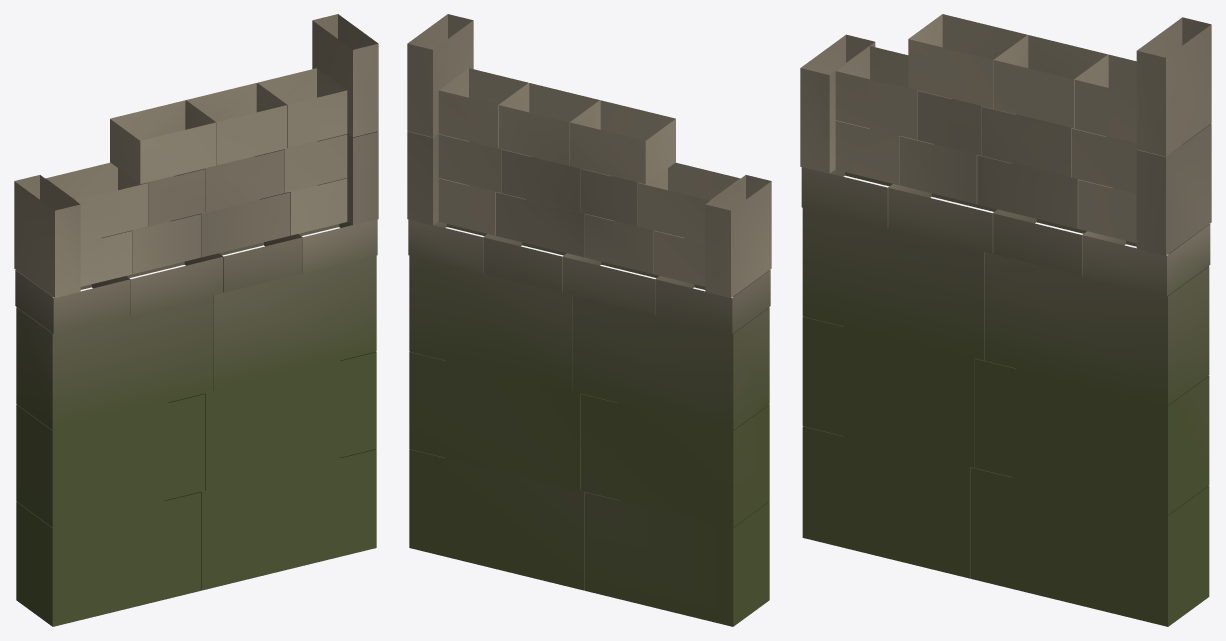
Rendered from sanctuary_wall_stump_mid.glb.
3 views of the same model, side by side, from view 1: azimuth 30°, elevation 25°; view 2: azimuth 150°, elevation 25°; view 3: azimuth 330°, elevation 25° (orthographic). The views are drawn at different scales.
Parts seen in each view (by area): view 1: sanctuary_wall_stump_mid; view 2: sanctuary_wall_stump_mid; view 3: sanctuary_wall_stump_mid.
Boxes of the visible parts, x1,y1,x2,y2 form: sanctuary_wall_stump_mid: (14,14,378,626); sanctuary_wall_stump_mid: (407,14,771,626); sanctuary_wall_stump_mid: (800,14,1211,626).
Bounding box in the file's own units: 18.47 × 27.57 × 4.
